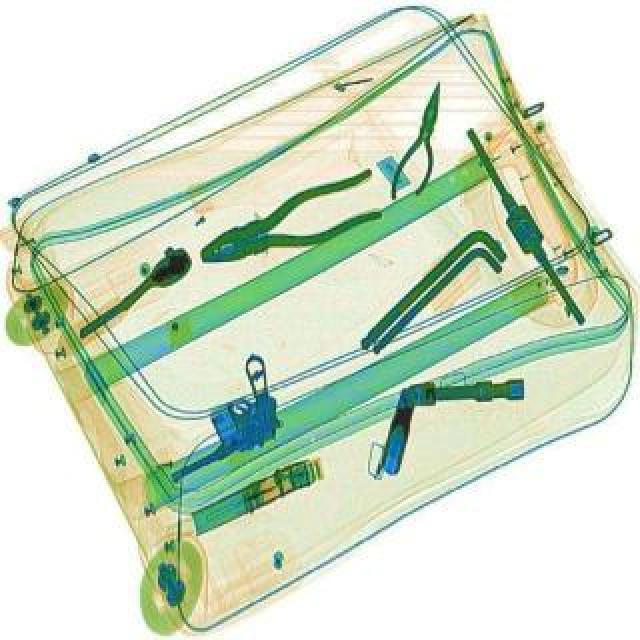gun: (134, 354, 302, 488)
wrench: (194, 170, 394, 286), (390, 78, 454, 210)
